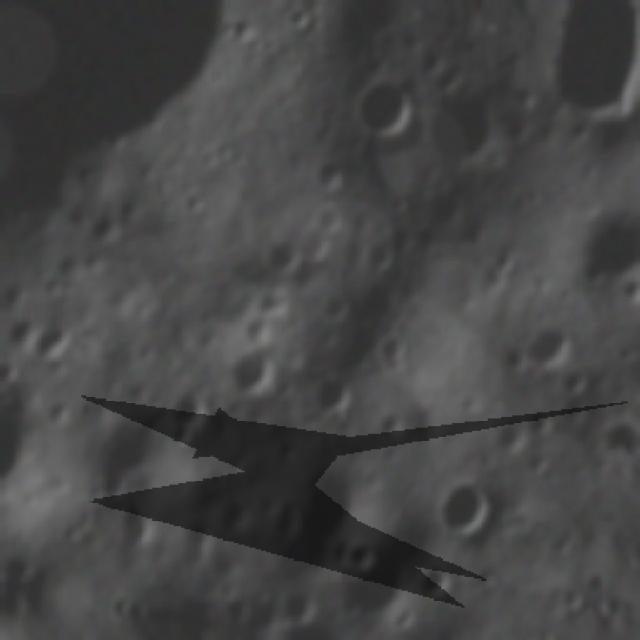crater: (531, 38, 640, 134), (564, 190, 640, 296), (420, 85, 505, 167), (341, 72, 417, 146), (434, 472, 492, 542), (231, 340, 283, 400), (170, 508, 221, 567), (165, 383, 206, 446), (33, 307, 75, 367), (528, 318, 577, 367), (311, 373, 354, 425), (377, 320, 417, 369), (414, 558, 454, 600), (263, 234, 302, 277), (487, 414, 527, 454), (364, 238, 402, 280), (61, 155, 101, 193), (83, 208, 123, 246), (308, 155, 347, 193), (218, 591, 256, 627), (523, 406, 559, 440), (282, 0, 318, 34), (548, 526, 580, 562), (310, 201, 344, 234), (416, 48, 452, 78), (558, 367, 592, 395), (282, 590, 312, 621), (500, 340, 525, 375), (301, 231, 327, 263), (0, 353, 22, 390), (182, 185, 203, 218), (75, 392, 97, 422), (102, 130, 128, 153)
